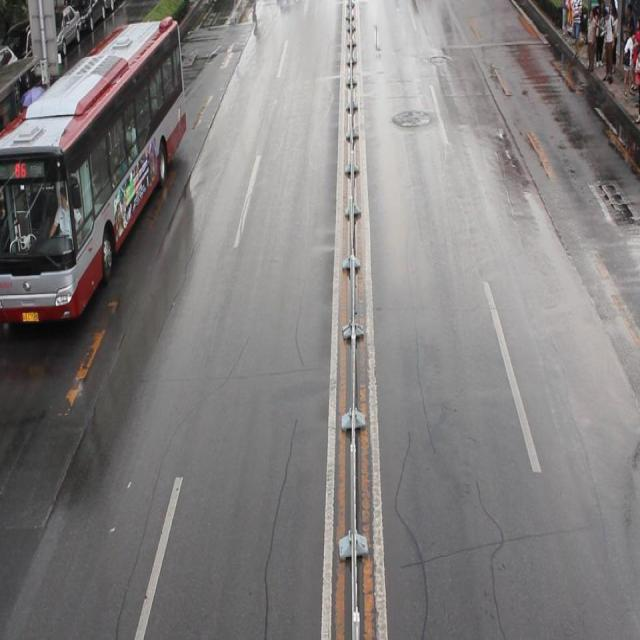van: (1, 17, 186, 321)
